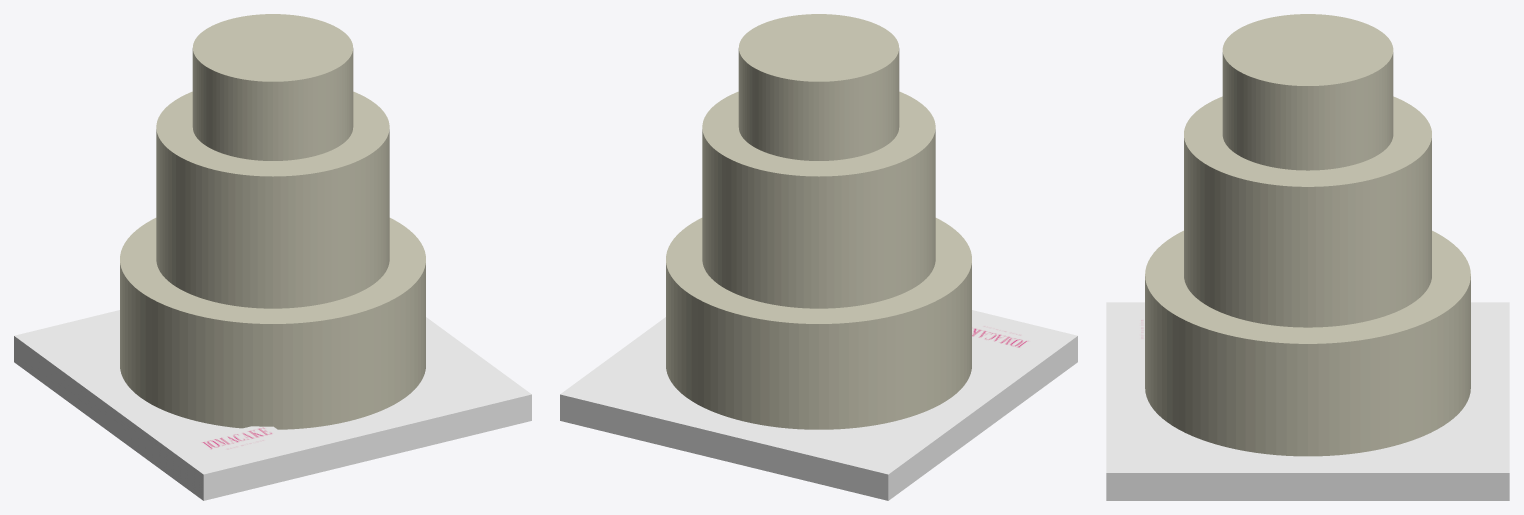
Rendered from cake_tier3_8-6-4_layers2_v34.glb.
3 renders of one model, left to right at view 1: azimuth 30°, elevation 25°; view 2: azimuth 150°, elevation 25°; view 3: azimuth 270°, elevation 25°, orthographic. The views are drawn at different scales.
Visible parts, largest first — view 1: Tier0, Tier1, Board, Tier2, Logo; view 2: Tier0, Tier1, Board, Tier2, Logo; view 3: Tier0, Tier1, Board, Tier2, Logo.
Boxes of the visible parts, x1,y1,x2,y2 form: Tier0: (120, 218, 425, 429); Tier1: (156, 91, 389, 308); Board: (14, 310, 531, 500); Tier2: (192, 14, 353, 160); Logo: (189, 426, 290, 458); Tier0: (666, 218, 971, 429); Tier1: (702, 91, 935, 308); Board: (560, 310, 1077, 500); Tier2: (738, 14, 899, 160); Logo: (972, 318, 1046, 352); Tier0: (1145, 230, 1470, 456); Tier1: (1184, 96, 1431, 327); Board: (1106, 302, 1509, 500); Tier2: (1222, 14, 1393, 170); Logo: (1130, 309, 1144, 350).
Bounding box in the file's own units: 0.26 × 0.26 × 0.26.
